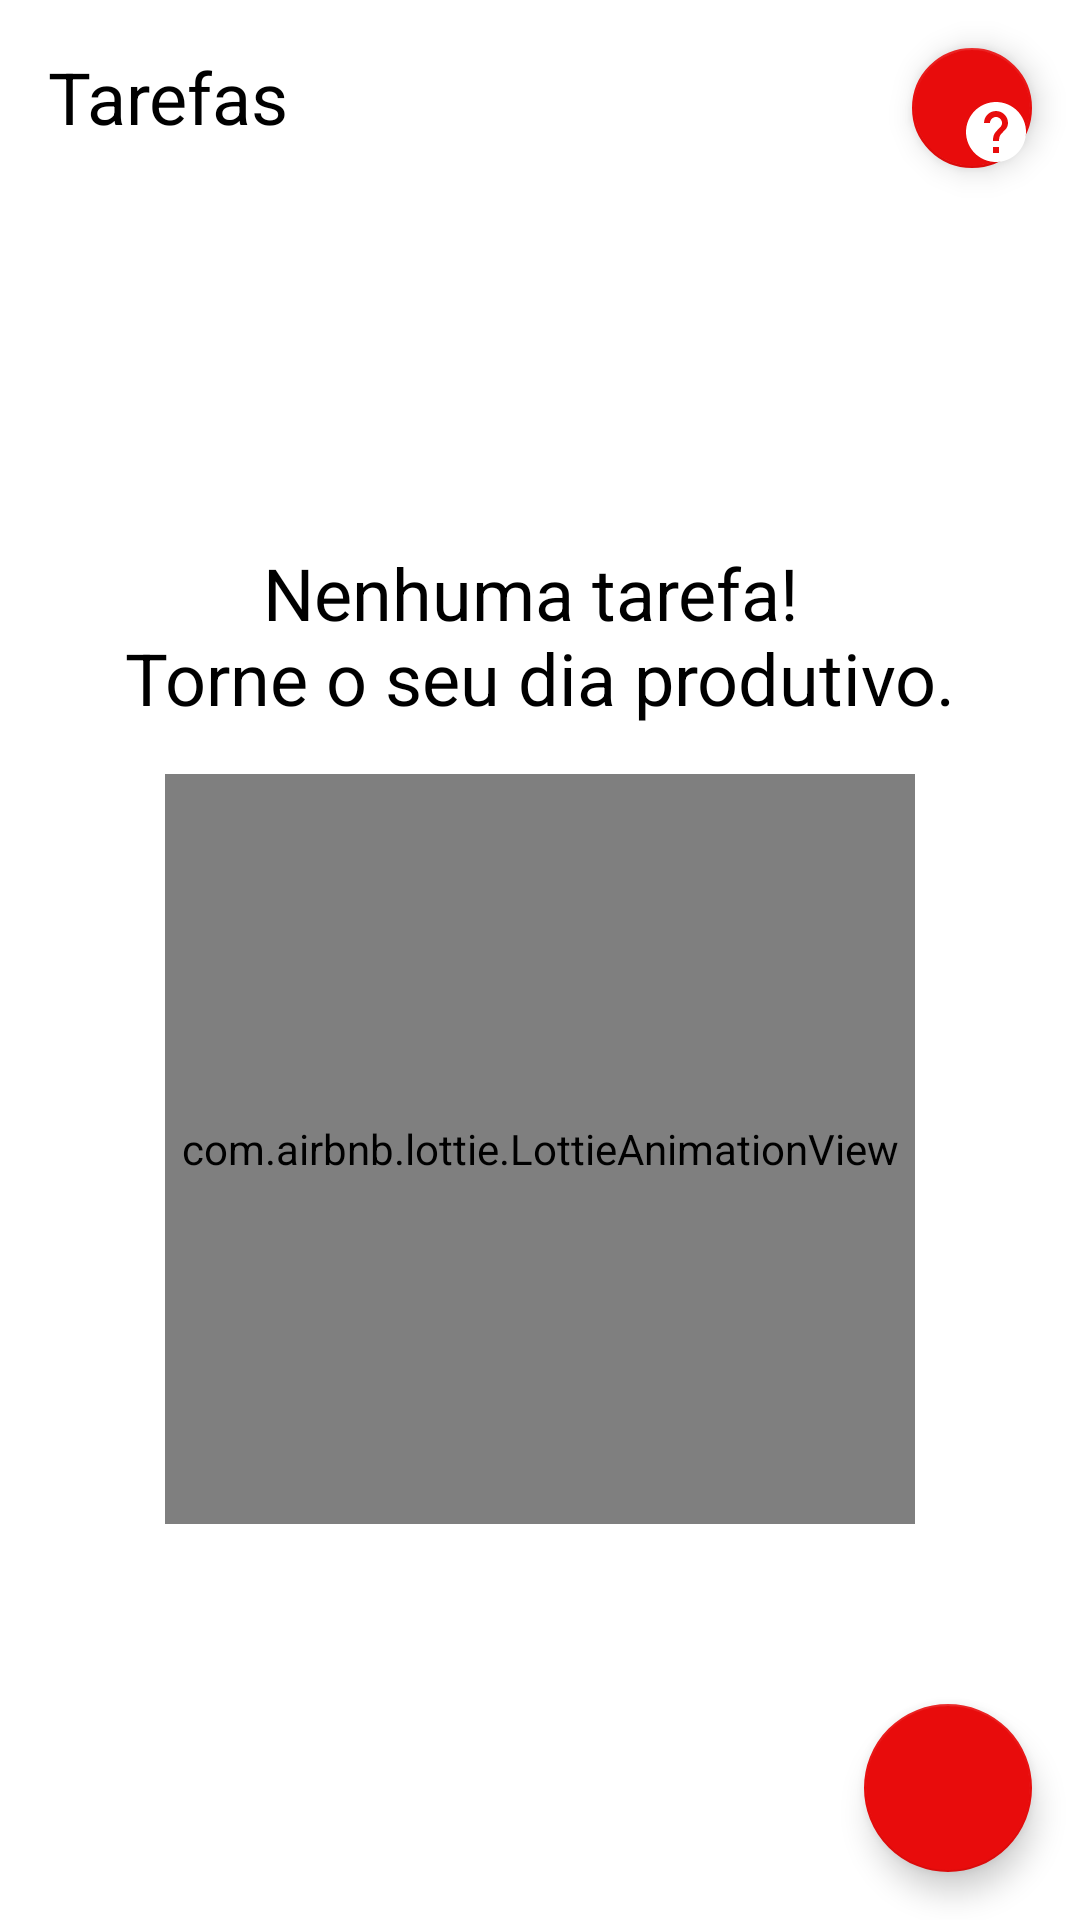

Locate icon controls on the screen. Image size 1080px×1920px, boxes as (x1, y1, x2, y2).
help: (912, 48, 1032, 168)
